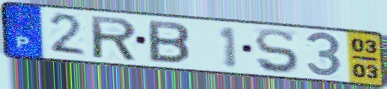1: (218, 26, 238, 70)
2: (48, 11, 88, 60)
3: (304, 30, 345, 80)
B: (146, 19, 192, 66)
R: (88, 14, 140, 63)
S: (253, 28, 302, 76)
